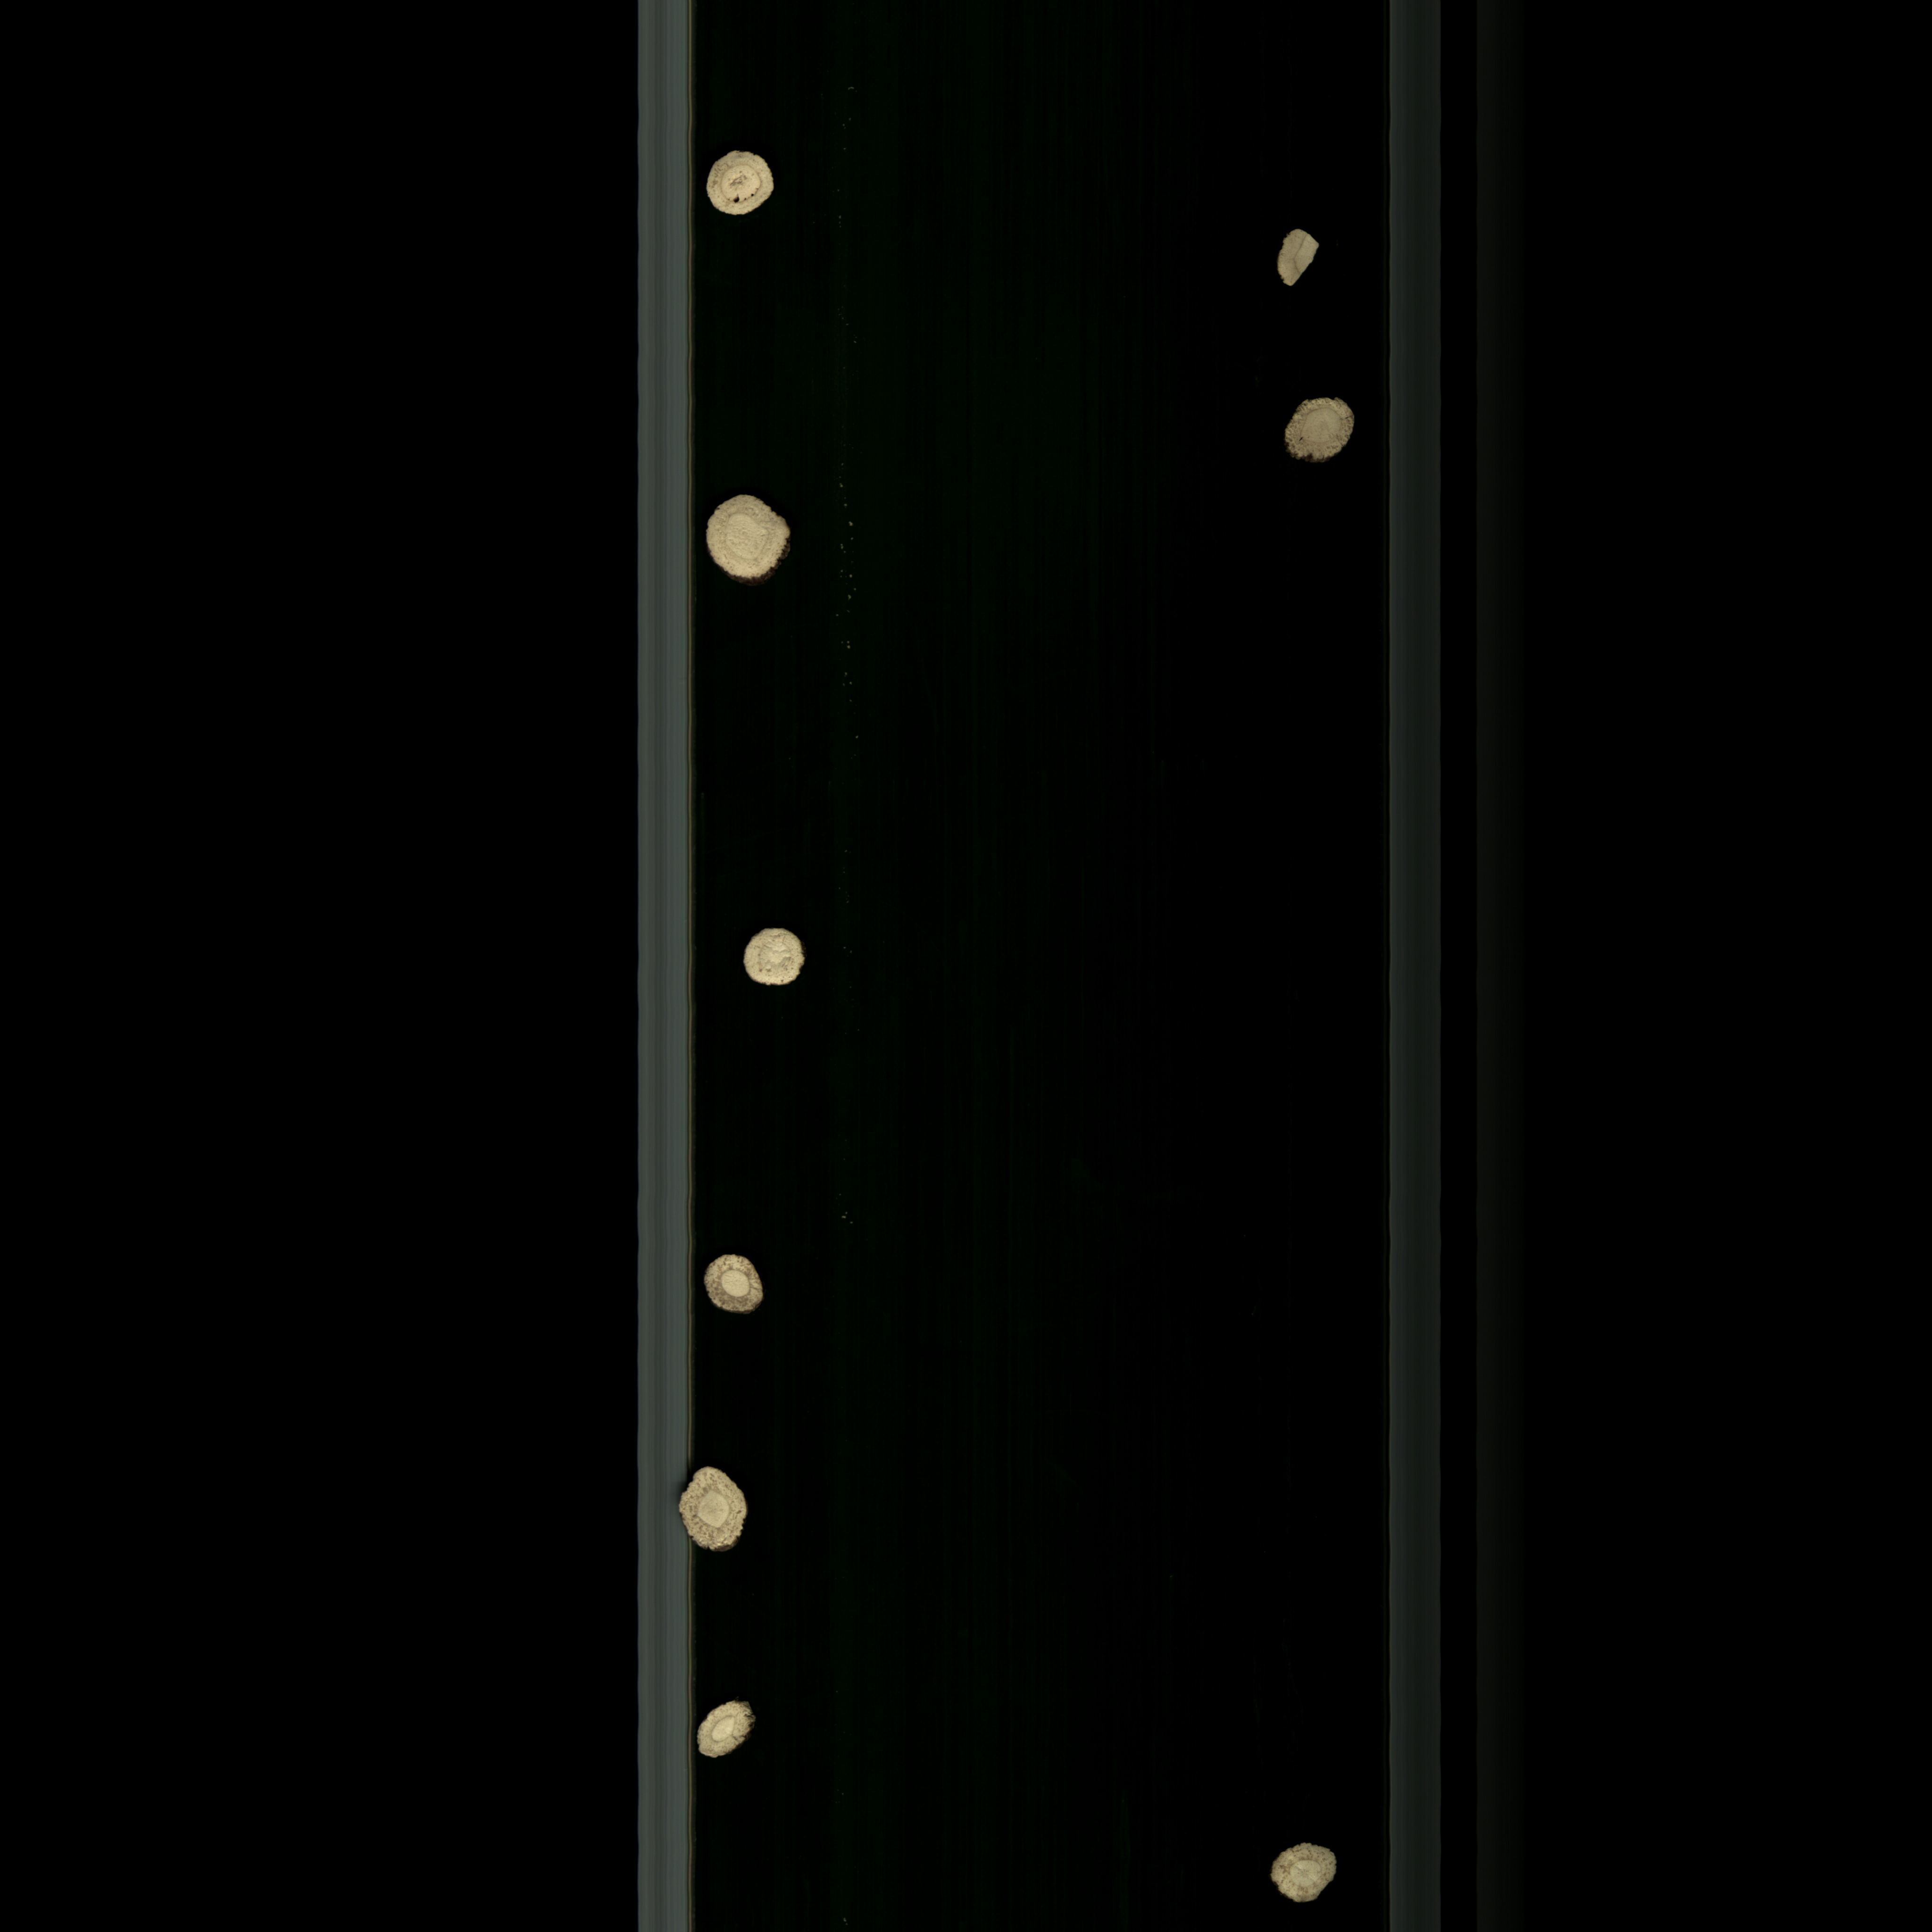debris: (1272, 216, 1329, 295)
distortion: (1260, 1836, 1343, 1916), (688, 1686, 768, 1766)
hole: (692, 138, 805, 249)
moldy: (1276, 386, 1366, 472), (701, 1249, 773, 1322)
